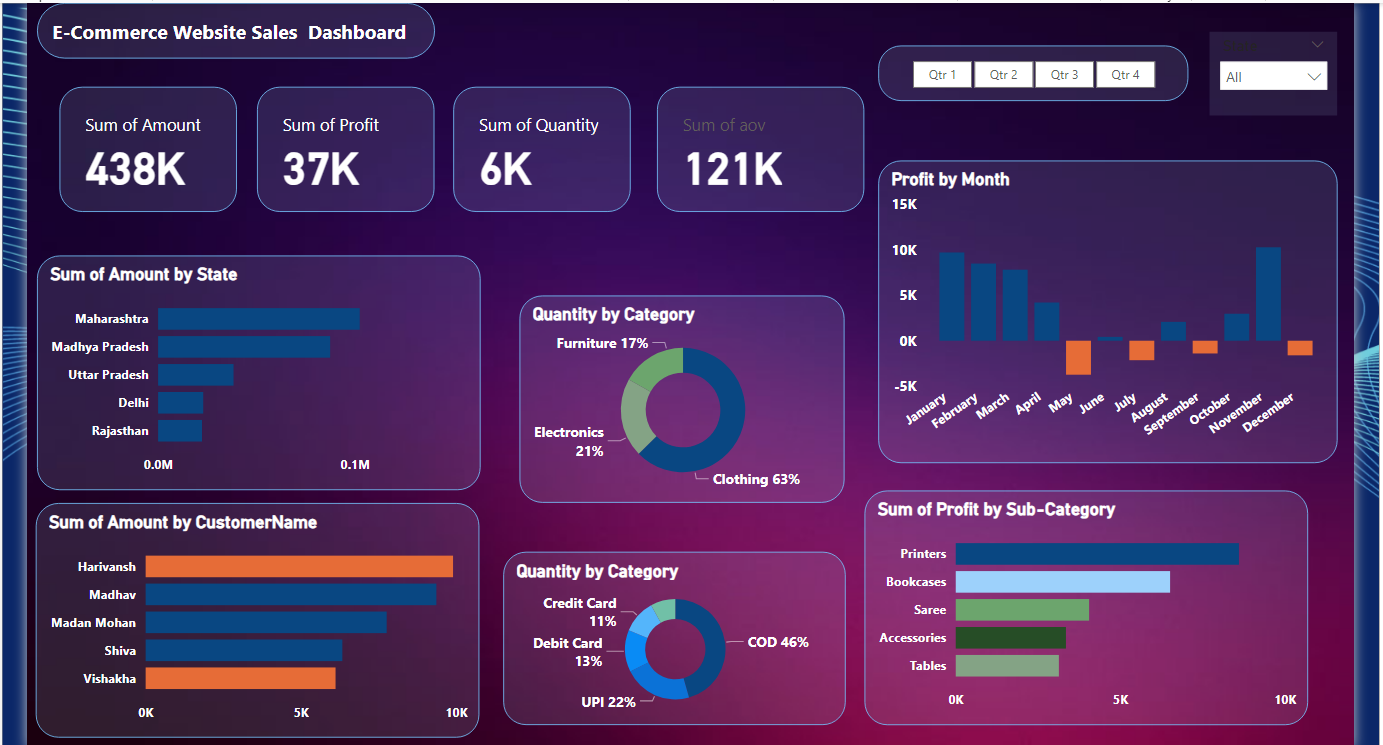

Layout of this report page (visuals, bound fields, positions):
{"tool":"powerbi","page":{"name":"Page 1","canvas":[1280,720],"ordinal":0},"visuals":[{"type":"textbox","box":[9.6,0,383.9,53.5],"z":0},{"type":"columnChart","title":" Profit by Month","fields":{"Y":["Details.Profit"],"Category":["Orders.Order Date.Variation.Date Hierarchy.Month"]},"box":[821.3,152.2,442.8,292],"z":1000},{"type":"donutChart","title":"Quantity by Category","fields":{"Category":["Details.Category"],"Y":["Details.Quantity"]},"box":[475.8,282.4,314,200.2],"z":2000},{"type":"donutChart","title":"Quantity by Category","fields":{"Category":["Details.PaymentMode"],"Y":["Details.Category"]},"box":[459.3,529.2,330.4,167.3],"z":3000},{"type":"cardVisual","fields":{"Data":["Details.Amount"]},"box":[31.5,80.9,171.4,120.7],"z":4000},{"type":"cardVisual","fields":{"Data":["Details.Profit"]},"box":[222.1,80.9,171.4,120.7],"z":5000},{"type":"cardVisual","fields":{"Data":["Details.Quantity"]},"box":[411.3,80.9,171.4,120.7],"z":6000},{"type":"cardVisual","fields":{"Data":["Details.aov"]},"box":[607.4,80.9,200.2,120.7],"z":7000},{"type":"barChart","fields":{"Category":["Details.Sub-Category"],"Y":["Details.Profit"]},"box":[807.5,470.3,427.8,226.2],"z":7001},{"type":"barChart","fields":{"Category":["Orders.State"],"Y":["Details.Amount"]},"box":[9.6,244,427.8,226.2],"z":7002},{"type":"barChart","fields":{"Category":["Orders.CustomerName"],"Y":["Details.Amount"]},"box":[8.2,482.6,427.8,226.2],"z":7003},{"type":"slicer","fields":{"Values":["Orders.Order Date.Variation.Date Hierarchy.Quarter"]},"box":[821.3,41.1,298.9,53.5],"z":7004},{"type":"slicer","fields":{"Values":["Orders.State"]},"box":[1140.7,27.4,123.4,80.9],"z":7005}]}

Visuals, with their boxes on the page's 1280x720 design canvas (x1, y1, x2, y2). These are canvas units, not pixel positions in the 1383x745 screenshot, which may show the page scaled, cropped or inside an application window:
textbox: box=[10, 0, 394, 54]
" Profit by Month" columnChart: box=[821, 152, 1264, 444]
"Quantity by Category" donutChart: box=[476, 282, 790, 483]
"Quantity by Category" donutChart: box=[459, 529, 790, 696]
cardVisual - Details.Amount: box=[32, 81, 203, 202]
cardVisual - Details.Profit: box=[222, 81, 394, 202]
cardVisual - Details.Quantity: box=[411, 81, 583, 202]
cardVisual - Details.aov: box=[607, 81, 808, 202]
barChart - Details.Sub-Category x Details.Profit: box=[808, 470, 1235, 696]
barChart - Orders.State x Details.Amount: box=[10, 244, 437, 470]
barChart - Orders.CustomerName x Details.Amount: box=[8, 483, 436, 709]
slicer - Orders.Order Date.Variation.Date Hierarchy.Quarter: box=[821, 41, 1120, 95]
slicer - Orders.State: box=[1141, 27, 1264, 108]
